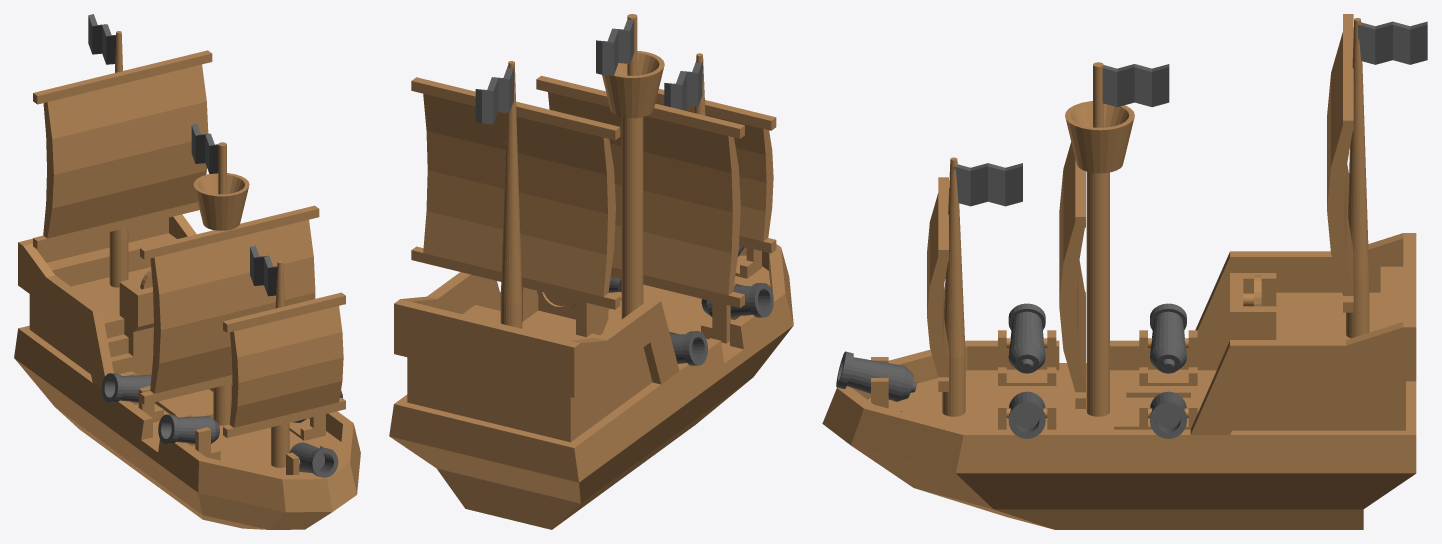
File: watercraftpack_003.glb
3 views of the same model, side by side, from view 1: azimuth 30°, elevation 25°; view 2: azimuth 150°, elevation 25°; view 3: azimuth 270°, elevation 25° (orthographic). The views are drawn at different scales.
Parts seen in each view (by area): view 1: Mesh22 Group12 Group1 Model, Mesh15 Group17 Group12 Group1 Model, Mesh12 Group14 Group12 Group1 Model, Mesh19 Group21 Group12 Group1 Model, Mesh16 Group18 Group12 Group1 Model, Mesh14 Group16 Group12 Group1 Model, Mesh9 Group10 Cannon_right_1 Group1 Model, Mesh13 Group15 Group12 Group1 Model, Mesh3 Group4 Cannon_front Group1 Model, Mesh7 Group8 Cannon_right_2 Group1 Model, Mesh20 Group22 Group12 Group1 Model, Mesh18 Group20 Group12 Group1 Model (+5 smaller); view 2: Mesh22 Group12 Group1 Model, Mesh15 Group17 Group12 Group1 Model, Mesh12 Group14 Group12 Group1 Model, Mesh19 Group21 Group12 Group1 Model, Mesh13 Group15 Group12 Group1 Model, Mesh14 Group16 Group12 Group1 Model, Mesh16 Group18 Group12 Group1 Model, Mesh18 Group20 Group12 Group1 Model, Mesh17 Group19 Group12 Group1 Model, Mesh21 Group23 Group12 Group1 Model, Mesh9 Group10 Cannon_right_1 Group1 Model, Mesh7 Group8 Cannon_right_2 Group1 Model (+3 smaller); view 3: Mesh22 Group12 Group1 Model, Mesh13 Group15 Group12 Group1 Model, Mesh15 Group17 Group12 Group1 Model, Mesh12 Group14 Group12 Group1 Model, Mesh14 Group16 Group12 Group1 Model, Mesh20 Group22 Group12 Group1 Model, Mesh16 Group18 Group12 Group1 Model, Mesh19 Group21 Group12 Group1 Model, Mesh18 Group20 Group12 Group1 Model, Mesh17 Group19 Group12 Group1 Model, Mesh21 Group23 Group12 Group1 Model, Mesh9 Group10 Cannon_right_1 Group1 Model (+7 smaller).
Boxes of the visible parts, left/top/right/bottom form: Mesh22 Group12 Group1 Model: left=14, top=214, right=360, bottom=529; Mesh15 Group17 Group12 Group1 Model: left=33, top=50, right=212, bottom=249; Mesh12 Group14 Group12 Group1 Model: left=140, top=205, right=319, bottom=404; Mesh19 Group21 Group12 Group1 Model: left=223, top=292, right=345, bottom=437; Mesh16 Group18 Group12 Group1 Model: left=193, top=173, right=249, bottom=230; Mesh14 Group16 Group12 Group1 Model: left=109, top=31, right=128, bottom=287; Mesh9 Group10 Cannon_right_1 Group1 Model: left=158, top=414, right=219, bottom=444; Mesh13 Group15 Group12 Group1 Model: left=213, top=142, right=231, bottom=425; Mesh3 Group4 Cannon_front Group1 Model: left=289, top=442, right=338, bottom=477; Mesh7 Group8 Cannon_right_2 Group1 Model: left=101, top=373, right=151, bottom=402; Mesh20 Group22 Group12 Group1 Model: left=271, top=260, right=289, bottom=467; Mesh18 Group20 Group12 Group1 Model: left=88, top=14, right=116, bottom=64; Mesh22 Group12 Group1 Model: left=389, top=244, right=793, bottom=529; Mesh15 Group17 Group12 Group1 Model: left=411, top=77, right=620, bottom=309; Mesh12 Group14 Group12 Group1 Model: left=536, top=75, right=744, bottom=307; Mesh19 Group21 Group12 Group1 Model: left=655, top=88, right=776, bottom=253; Mesh13 Group15 Group12 Group1 Model: left=621, top=14, right=643, bottom=319; Mesh14 Group16 Group12 Group1 Model: left=500, top=61, right=522, bottom=328; Mesh16 Group18 Group12 Group1 Model: left=602, top=51, right=664, bottom=118; Mesh18 Group20 Group12 Group1 Model: left=475, top=65, right=514, bottom=124; Mesh17 Group19 Group12 Group1 Model: left=596, top=19, right=634, bottom=75; Mesh21 Group23 Group12 Group1 Model: left=664, top=61, right=702, bottom=110; Mesh9 Group10 Cannon_right_1 Group1 Model: left=701, top=283, right=773, bottom=317; Mesh7 Group8 Cannon_right_2 Group1 Model: left=670, top=331, right=707, bottom=365; Mesh22 Group12 Group1 Model: left=822, top=233, right=1416, bottom=529; Mesh13 Group15 Group12 Group1 Model: left=1086, top=62, right=1109, bottom=416; Mesh15 Group17 Group12 Group1 Model: left=1327, top=14, right=1353, bottom=312; Mesh12 Group14 Group12 Group1 Model: left=1059, top=142, right=1085, bottom=408; Mesh14 Group16 Group12 Group1 Model: left=1346, top=18, right=1369, bottom=338; Mesh20 Group22 Group12 Group1 Model: left=942, top=157, right=965, bottom=416; Mesh16 Group18 Group12 Group1 Model: left=1065, top=101, right=1134, bottom=173; Mesh19 Group21 Group12 Group1 Model: left=927, top=177, right=948, bottom=391; Mesh18 Group20 Group12 Group1 Model: left=1358, top=21, right=1427, bottom=64; Mesh17 Group19 Group12 Group1 Model: left=1102, top=64, right=1169, bottom=107; Mesh21 Group23 Group12 Group1 Model: left=953, top=163, right=1022, bottom=206; Mesh9 Group10 Cannon_right_1 Group1 Model: left=1008, top=303, right=1045, bottom=373.
Bounding box in the file's own units: 3.77 × 8.01 × 9.
